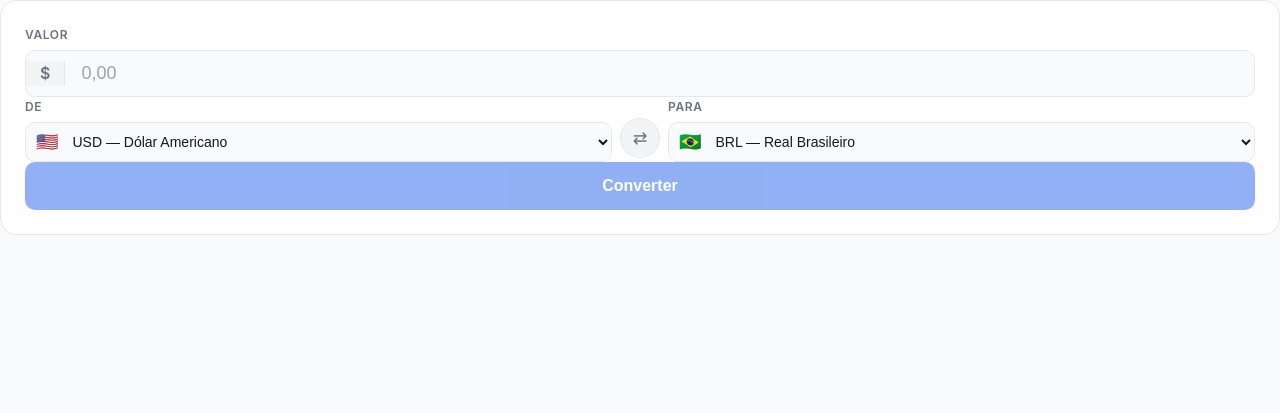
Test: Conversor › resultado de conversão › exibe a taxa unitária no formato correto
The width and height of the screenshot is (1280, 413).
In the field with placeholder "0,00": (660, 74) [65,51,1254,96], type "1"
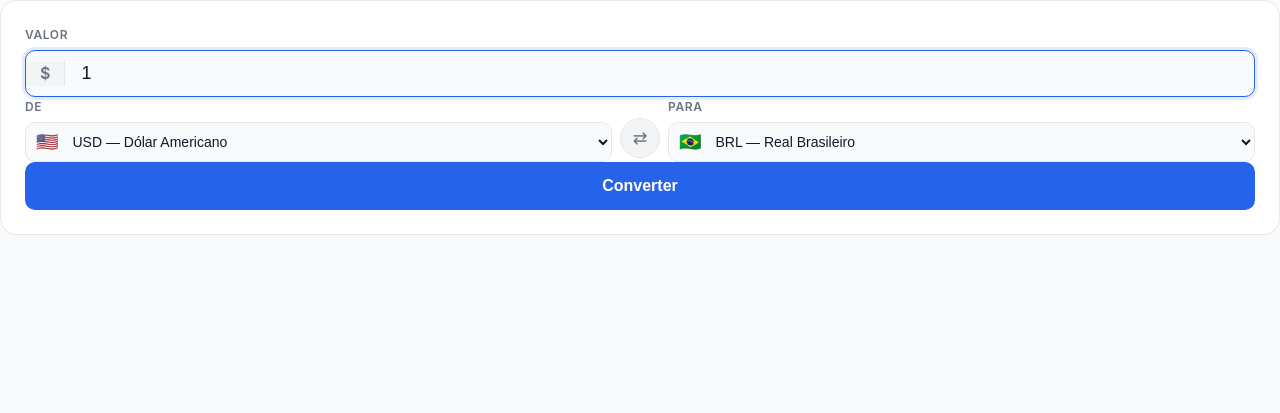
Click the button "Converter": (640, 186) [25,162,1255,210]
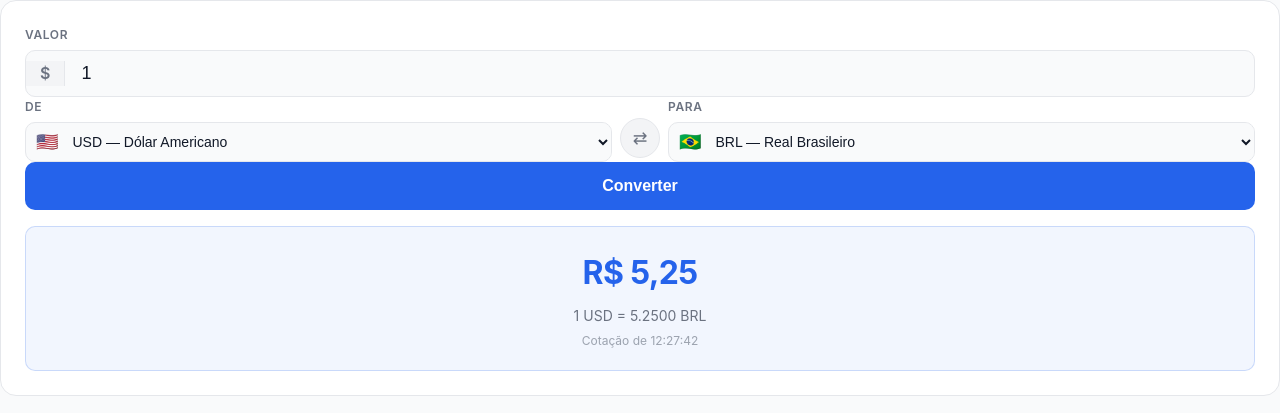
Check: the text "1 USD = 5.2500 BRL" is shown, box [574,307,706,324]
